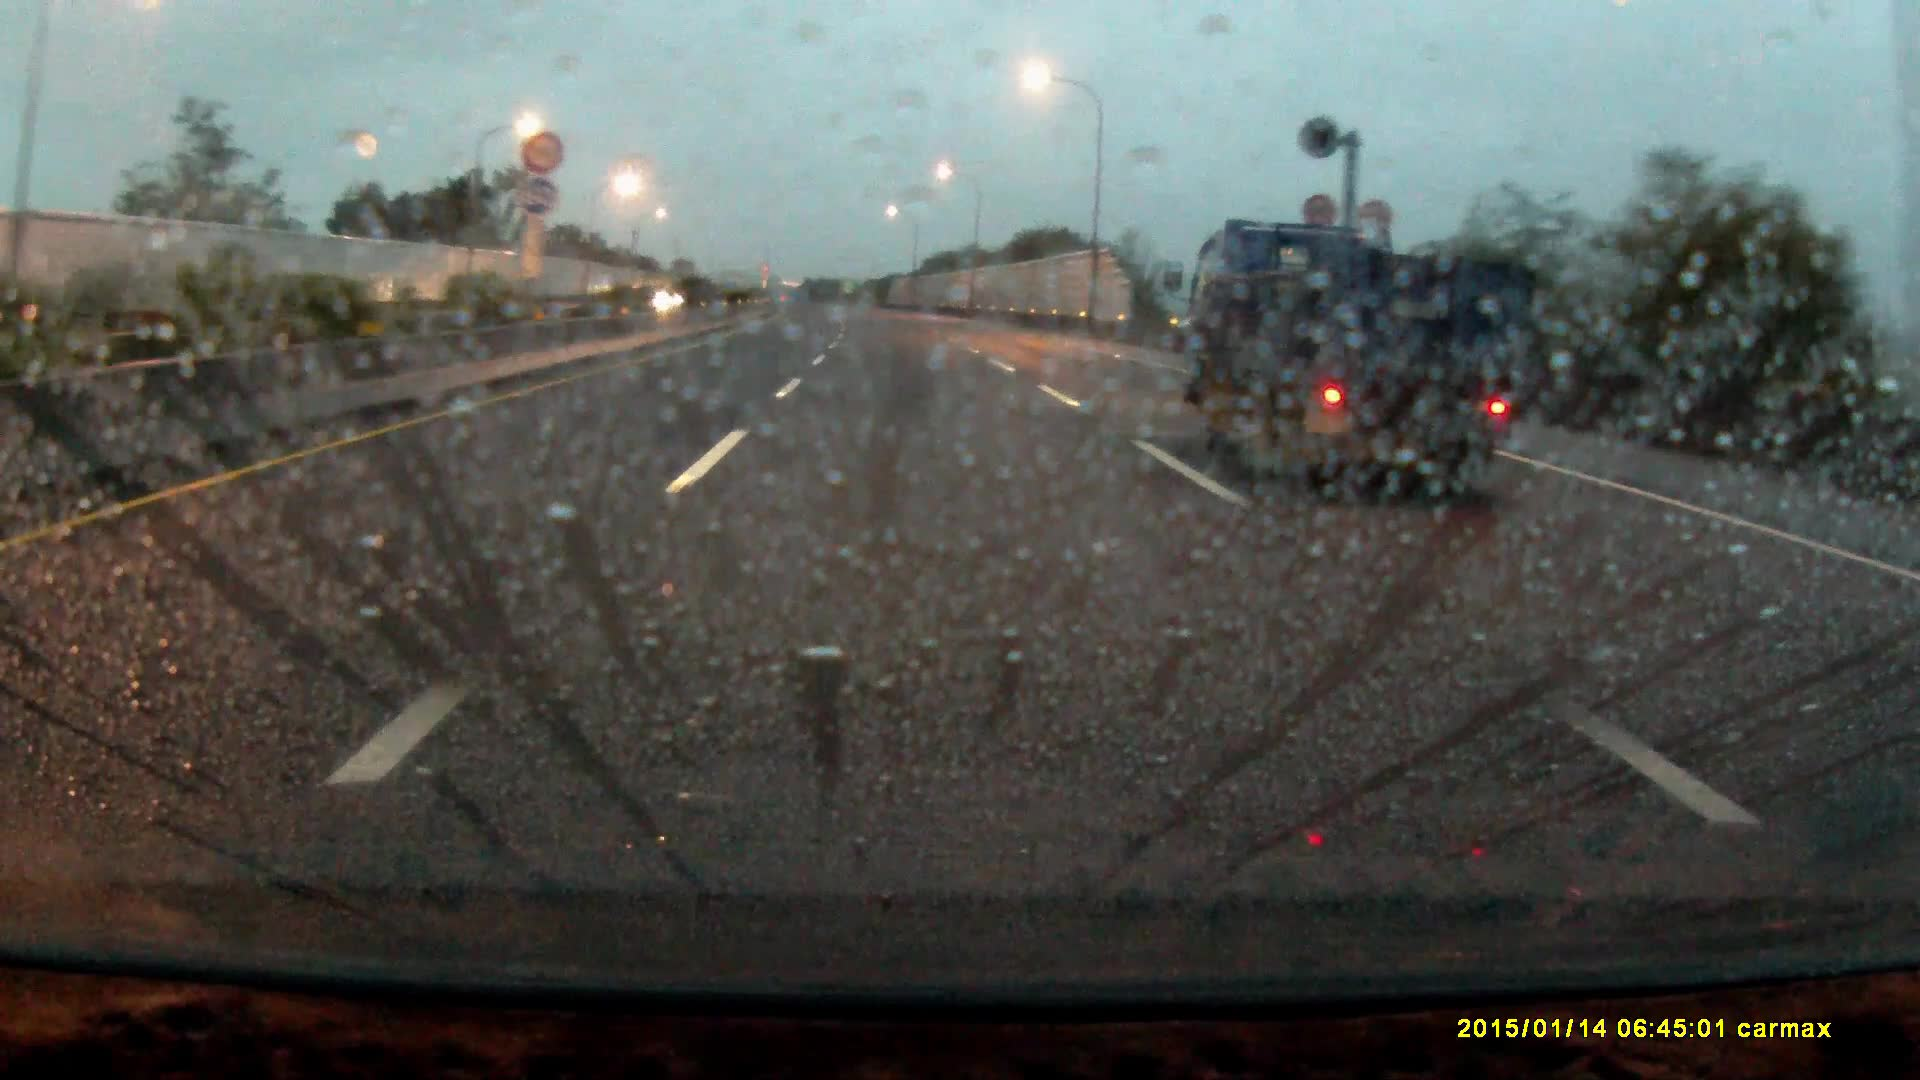vehicle: (1204, 204, 1543, 521)
